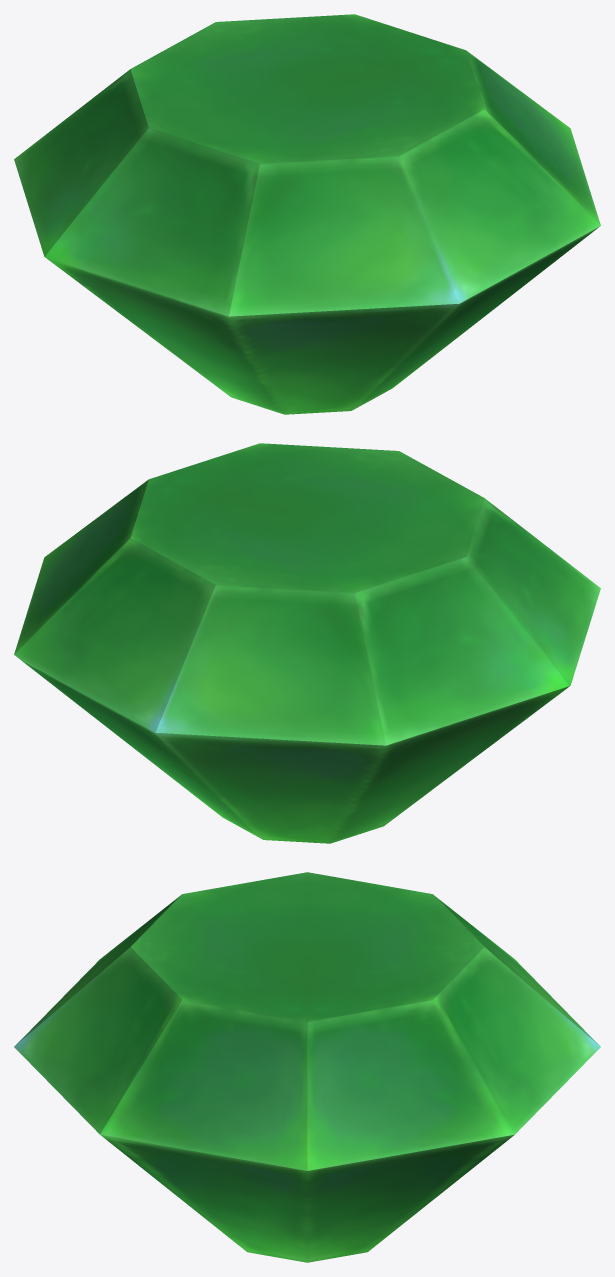
The model's file is pet_6003.FBX.
The picture shows the model from 3 angles, top to bottom: view 1: azimuth 30°, elevation 25°; view 2: azimuth 150°, elevation 25°; view 3: azimuth 270°, elevation 25°; orthographic projection. The views are drawn at different scales.
Parts seen in each view (by area): view 1: pet_6003; view 2: pet_6003; view 3: pet_6003.
Part boxes in pixels (<box>): pet_6003: <box>14,14,600,414</box>; pet_6003: <box>14,443,600,843</box>; pet_6003: <box>14,872,600,1262</box>.
Bounding box in the file's own units: 15.06 × 8.13 × 15.06.
1 material, 1 textured.
